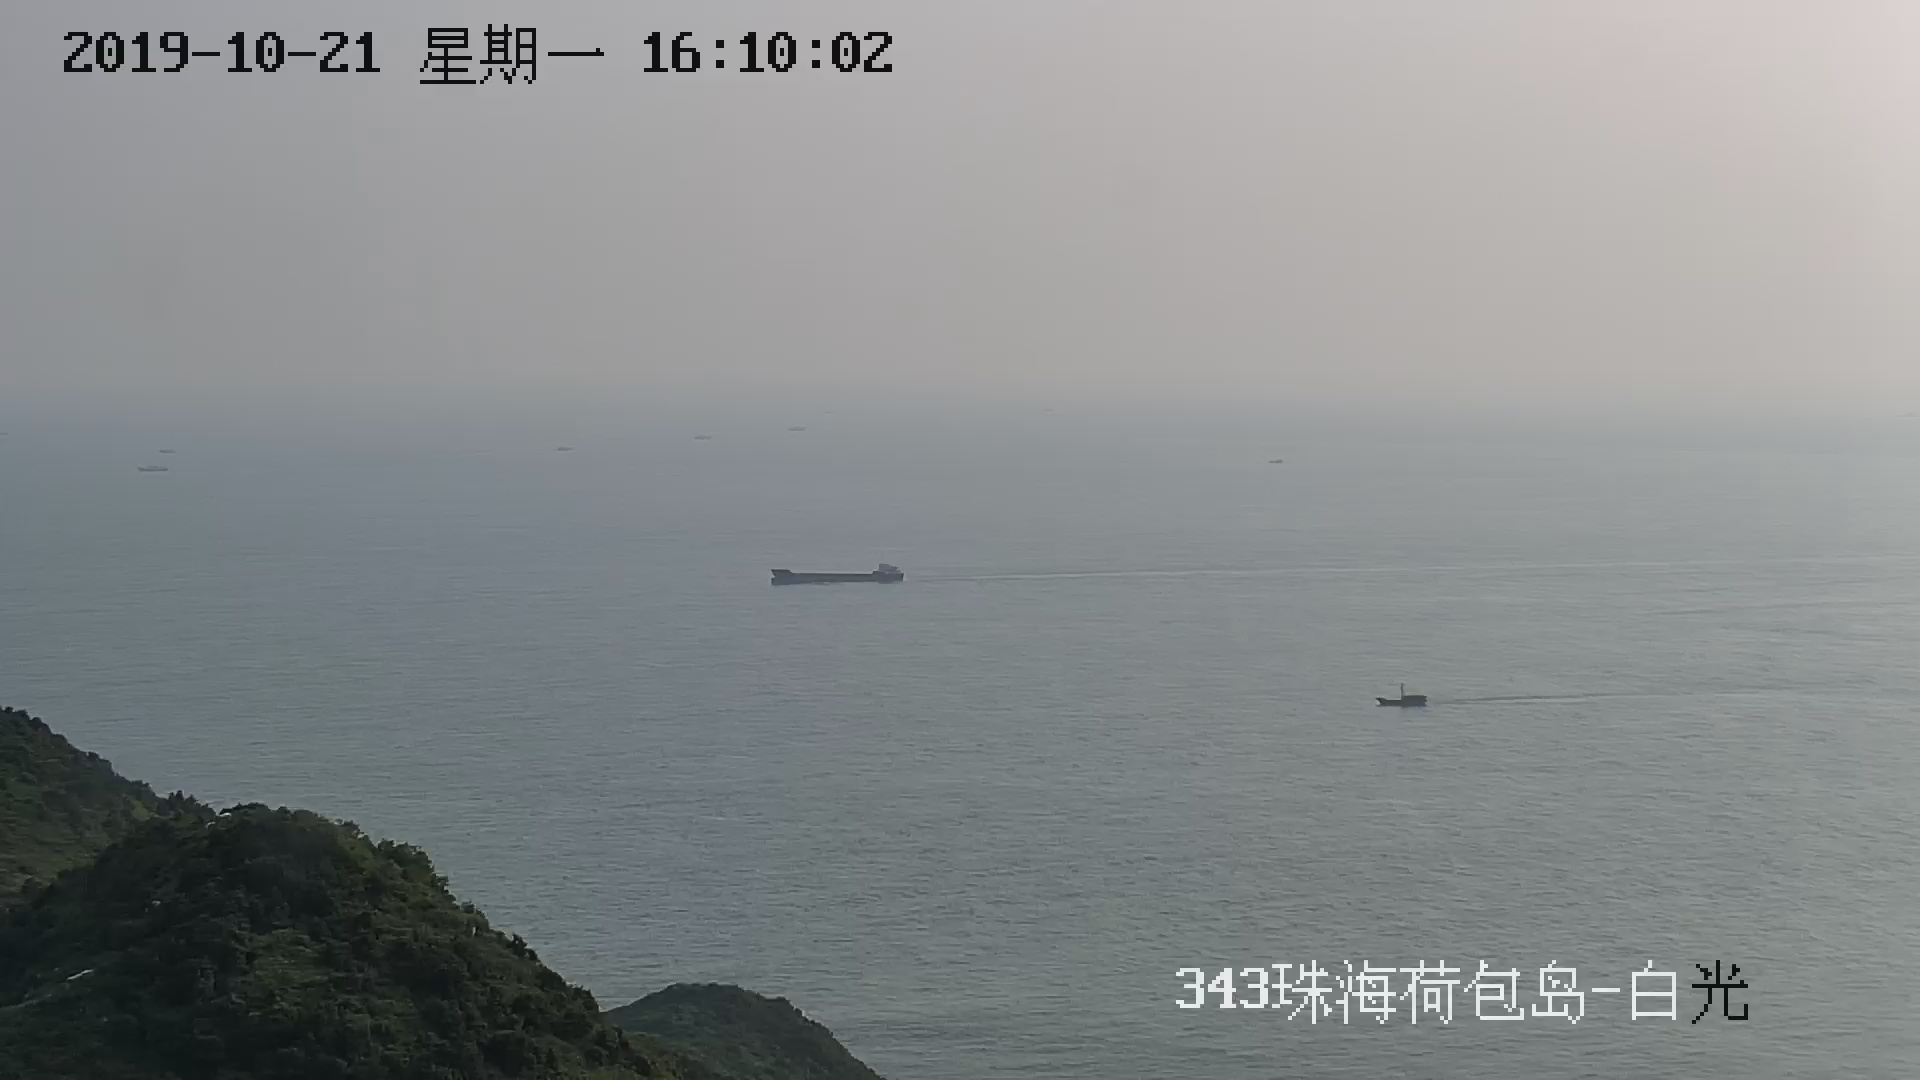ship: (770, 555, 905, 587), (1377, 680, 1428, 709)
